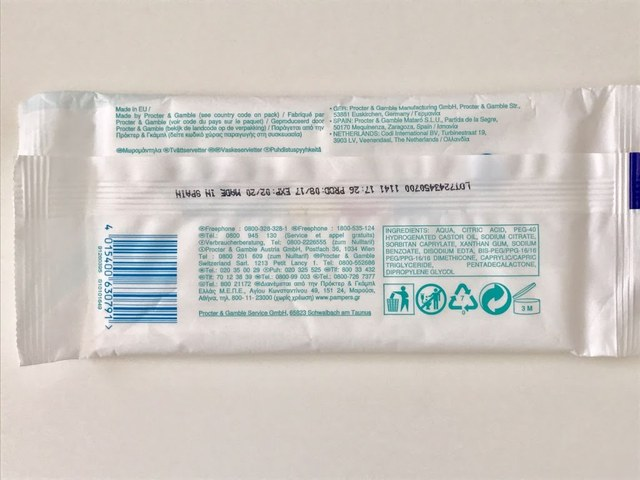Himalaya Baby Wipes: (32, 24, 608, 456)
